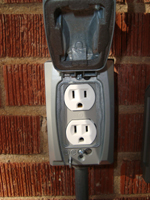outlet: (70, 89, 89, 109), (72, 124, 91, 143)
